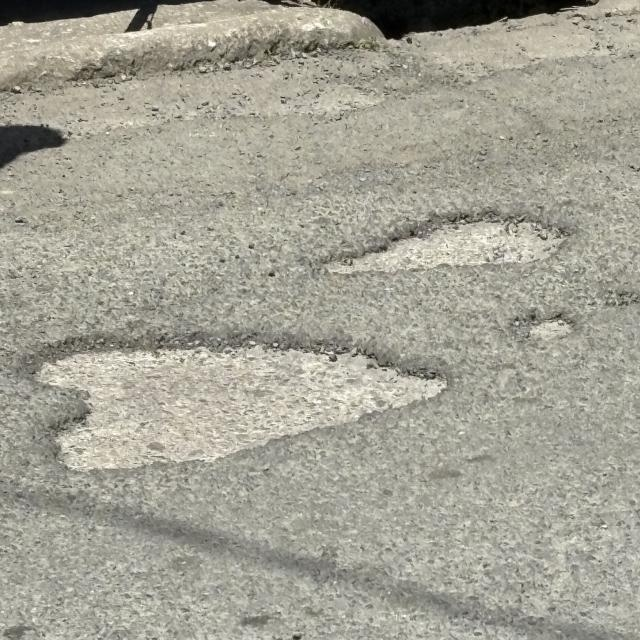pothole: (11, 306, 486, 515), (297, 181, 590, 280), (520, 303, 588, 355)
